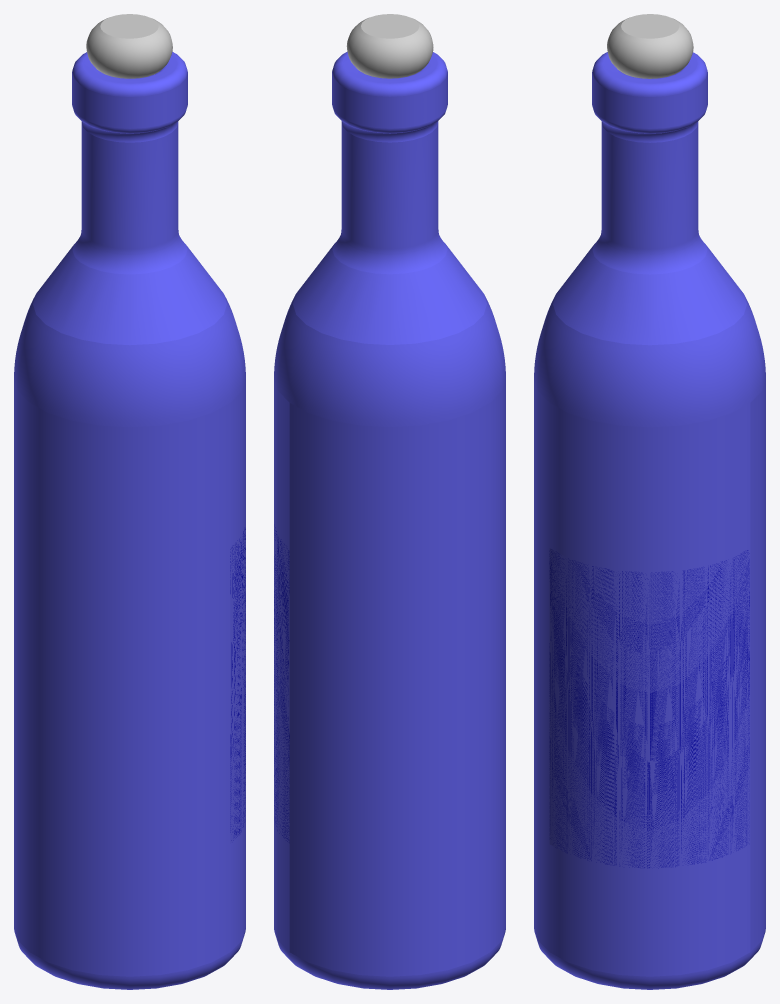
3 renders of one model, left to right at view 1: azimuth 30°, elevation 25°; view 2: azimuth 150°, elevation 25°; view 3: azimuth 270°, elevation 25°, orthographic.
Parts seen in each view (by area): view 1: mesh1_mesh1-geometry, mesh2_mesh2-geometry; view 2: mesh1_mesh1-geometry, mesh2_mesh2-geometry; view 3: mesh1_mesh1-geometry, mesh2_mesh2-geometry.
Boxes of the visible parts, x1,y1,x2,y2 form: mesh1_mesh1-geometry: (14, 52, 245, 989); mesh2_mesh2-geometry: (86, 14, 172, 78); mesh1_mesh1-geometry: (274, 51, 505, 989); mesh2_mesh2-geometry: (346, 14, 433, 78); mesh1_mesh1-geometry: (534, 52, 765, 989); mesh2_mesh2-geometry: (607, 14, 693, 78).
Size of the model in its own units: 0.2169 by 0.9518 by 0.2169.
